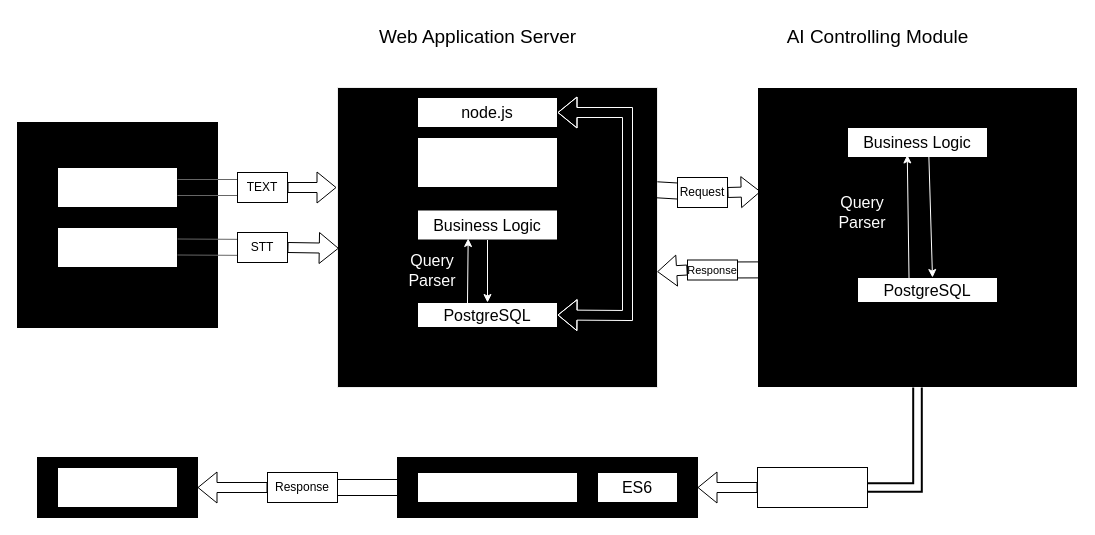
The diagram is 1095 pixels wide and 535 high, and some of its shapes have lost their labels. Each missing label, with the box of its shape:
Application: (56, 166, 178, 208)
Evaluation Result: (56, 466, 178, 508)
node.js EXPRESS: (416, 136, 558, 188)
ReactJS: (416, 472, 578, 502)
RESTful API: (756, 466, 868, 508)
Video: (56, 226, 178, 268)
